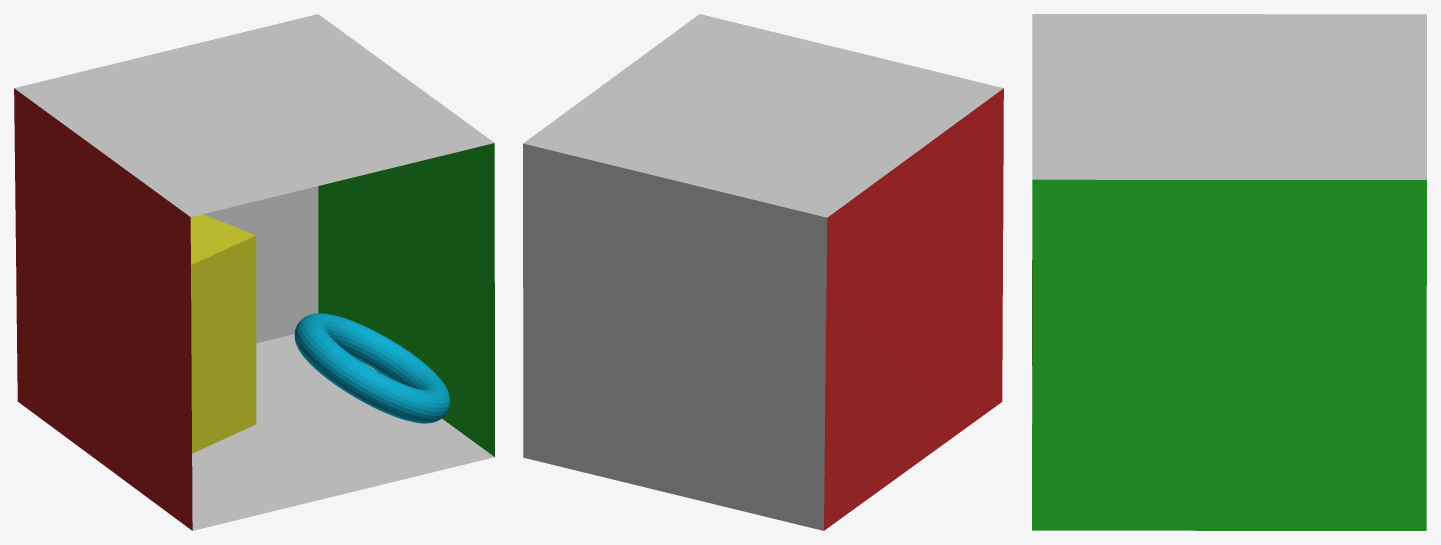
The model's file is cornell-box-tourus.obj.
3 views of the same model, side by side, from view 1: azimuth 30°, elevation 25°; view 2: azimuth 150°, elevation 25°; view 3: azimuth 270°, elevation 25° (orthographic). The views are drawn at different scales.
Parts seen in each view (by area): view 1: left_wall, ceiling, right_wall, floor, tall_box, Torus, back_wall; view 2: back_wall, left_wall, ceiling; view 3: right_wall, ceiling.
Part boxes in pixels (bbox=[...]): left_wall: bbox=[14, 88, 192, 530]; ceiling: bbox=[14, 14, 494, 216]; right_wall: bbox=[318, 143, 494, 456]; floor: bbox=[192, 334, 494, 530]; tall_box: bbox=[190, 214, 256, 453]; Torus: bbox=[294, 313, 450, 423]; back_wall: bbox=[203, 186, 318, 343]; back_wall: bbox=[523, 143, 827, 530]; left_wall: bbox=[824, 88, 1003, 530]; ceiling: bbox=[523, 14, 1003, 217]; right_wall: bbox=[1032, 179, 1426, 530]; ceiling: bbox=[1032, 14, 1426, 179].
Size of the model in its own units: 5.56 by 5.49 by 5.6.
